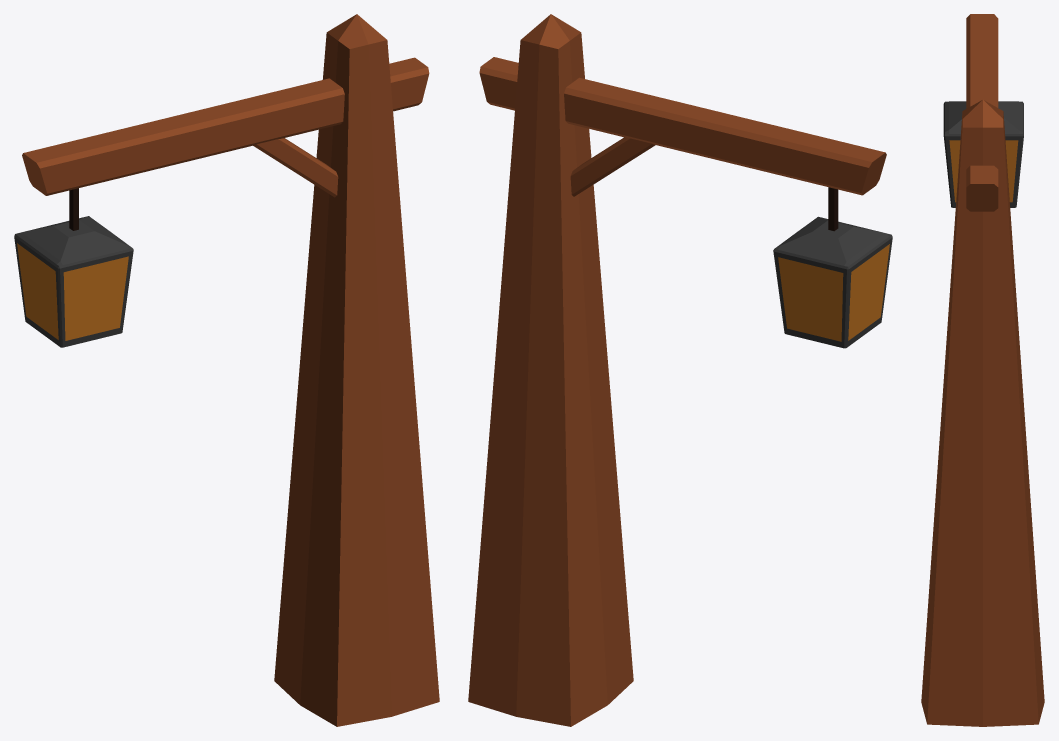
The model's file is HangLamp_FBX.fbx.
3 views of the same model, side by side, from view 1: azimuth 30°, elevation 25°; view 2: azimuth 150°, elevation 25°; view 3: azimuth 270°, elevation 25° (orthographic). The views are drawn at different scales.
Parts seen in each view (by area): view 1: Lamp_Post01, Lamp_Post02, Lamp_Lamp, Lamp_Post03; view 2: Lamp_Post01, Lamp_Post02, Lamp_Lamp, Lamp_Post03; view 3: Lamp_Post01, Lamp_Post02, Lamp_Lamp.
Boxes of the visible parts, <box> form: Lamp_Post01: <box>274,14,439,726</box>; Lamp_Post02: <box>22,57,429,195</box>; Lamp_Lamp: <box>14,216,133,347</box>; Lamp_Post03: <box>253,138,338,197</box>; Lamp_Post01: <box>468,14,633,726</box>; Lamp_Post02: <box>479,57,886,195</box>; Lamp_Lamp: <box>773,216,892,348</box>; Lamp_Post03: <box>570,137,655,196</box>; Lamp_Post01: <box>921,100,1044,726</box>; Lamp_Post02: <box>966,14,998,211</box>; Lamp_Lamp: <box>943,101,1023,207</box>.
Bounding box in the file's own units: 286 × 472 × 87.58.
